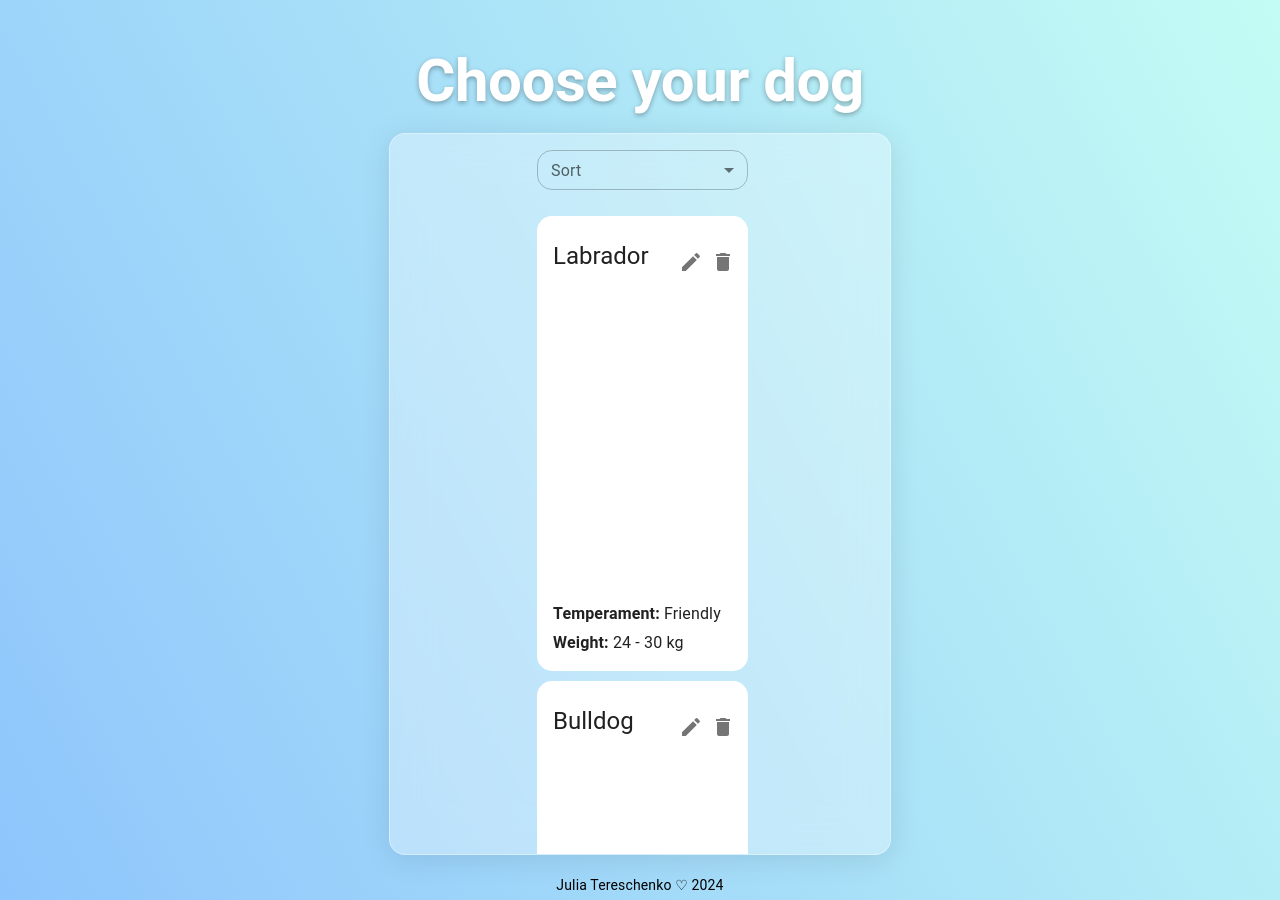
Test: App Component › should sort dogs by name
Click the dropdown named "Sort" at (643, 170), box [537,150,748,190]
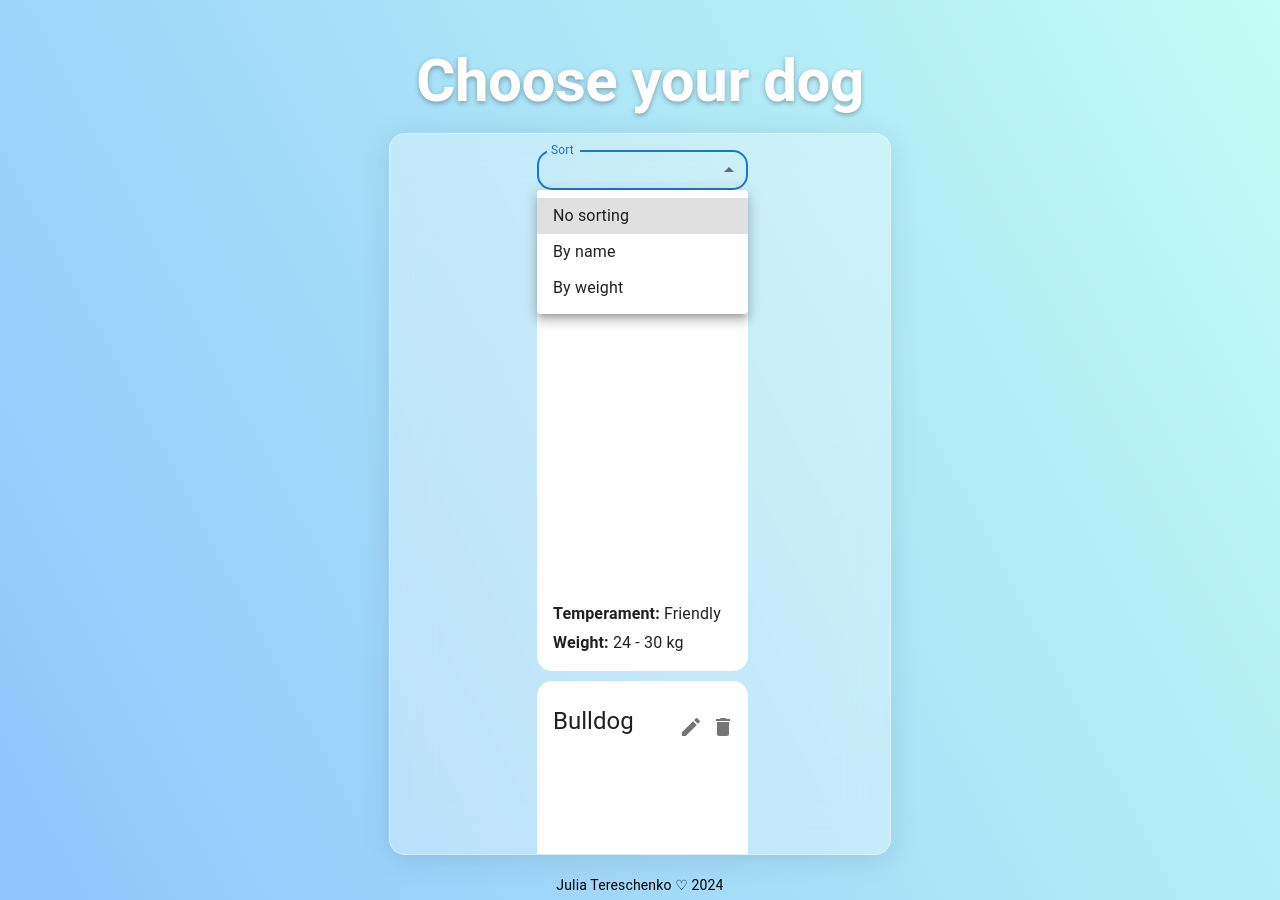
Click the option "By name" at (584, 252), box [553,242,616,261]
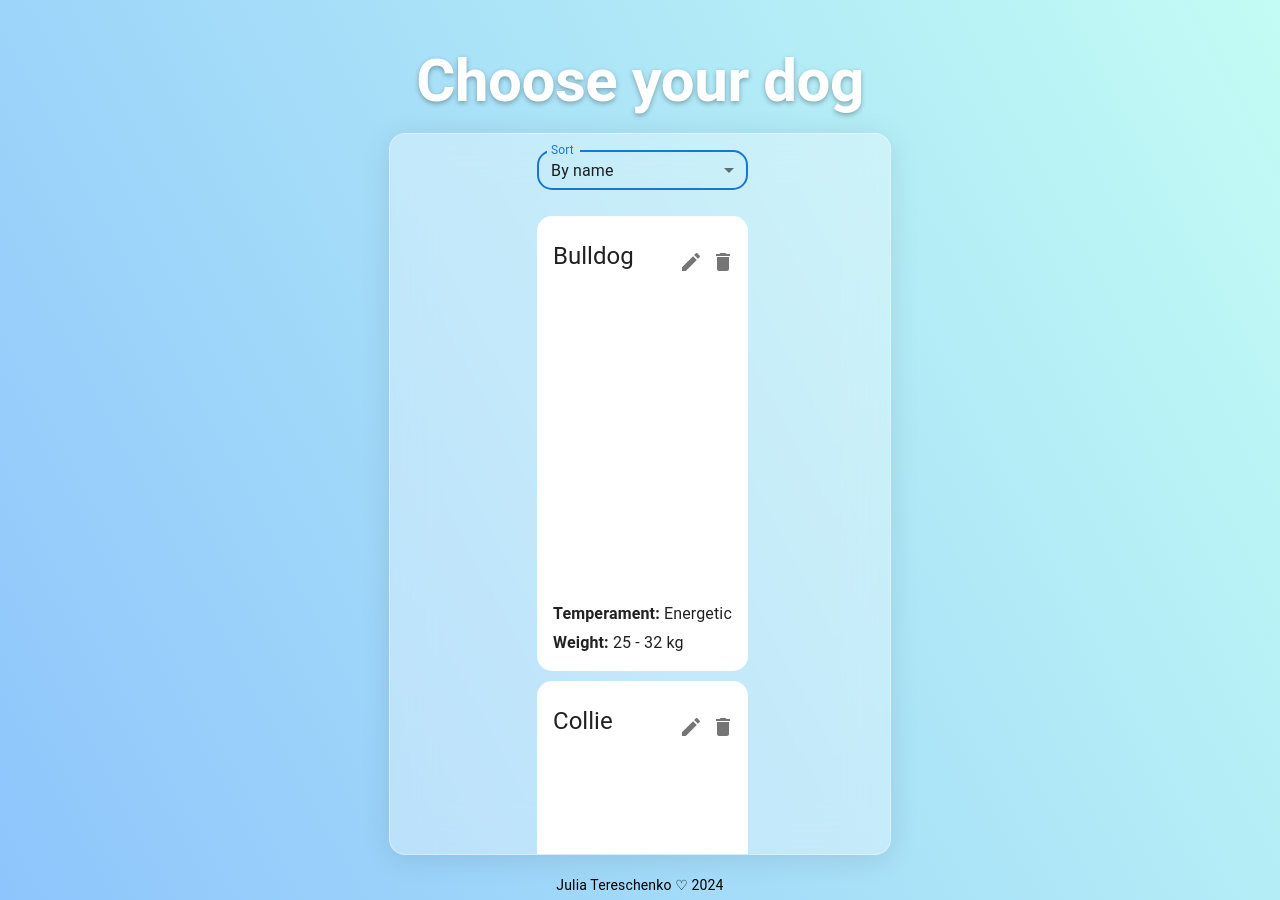
Result: the dropdown "By name" is shown at [551,160,614,180]
